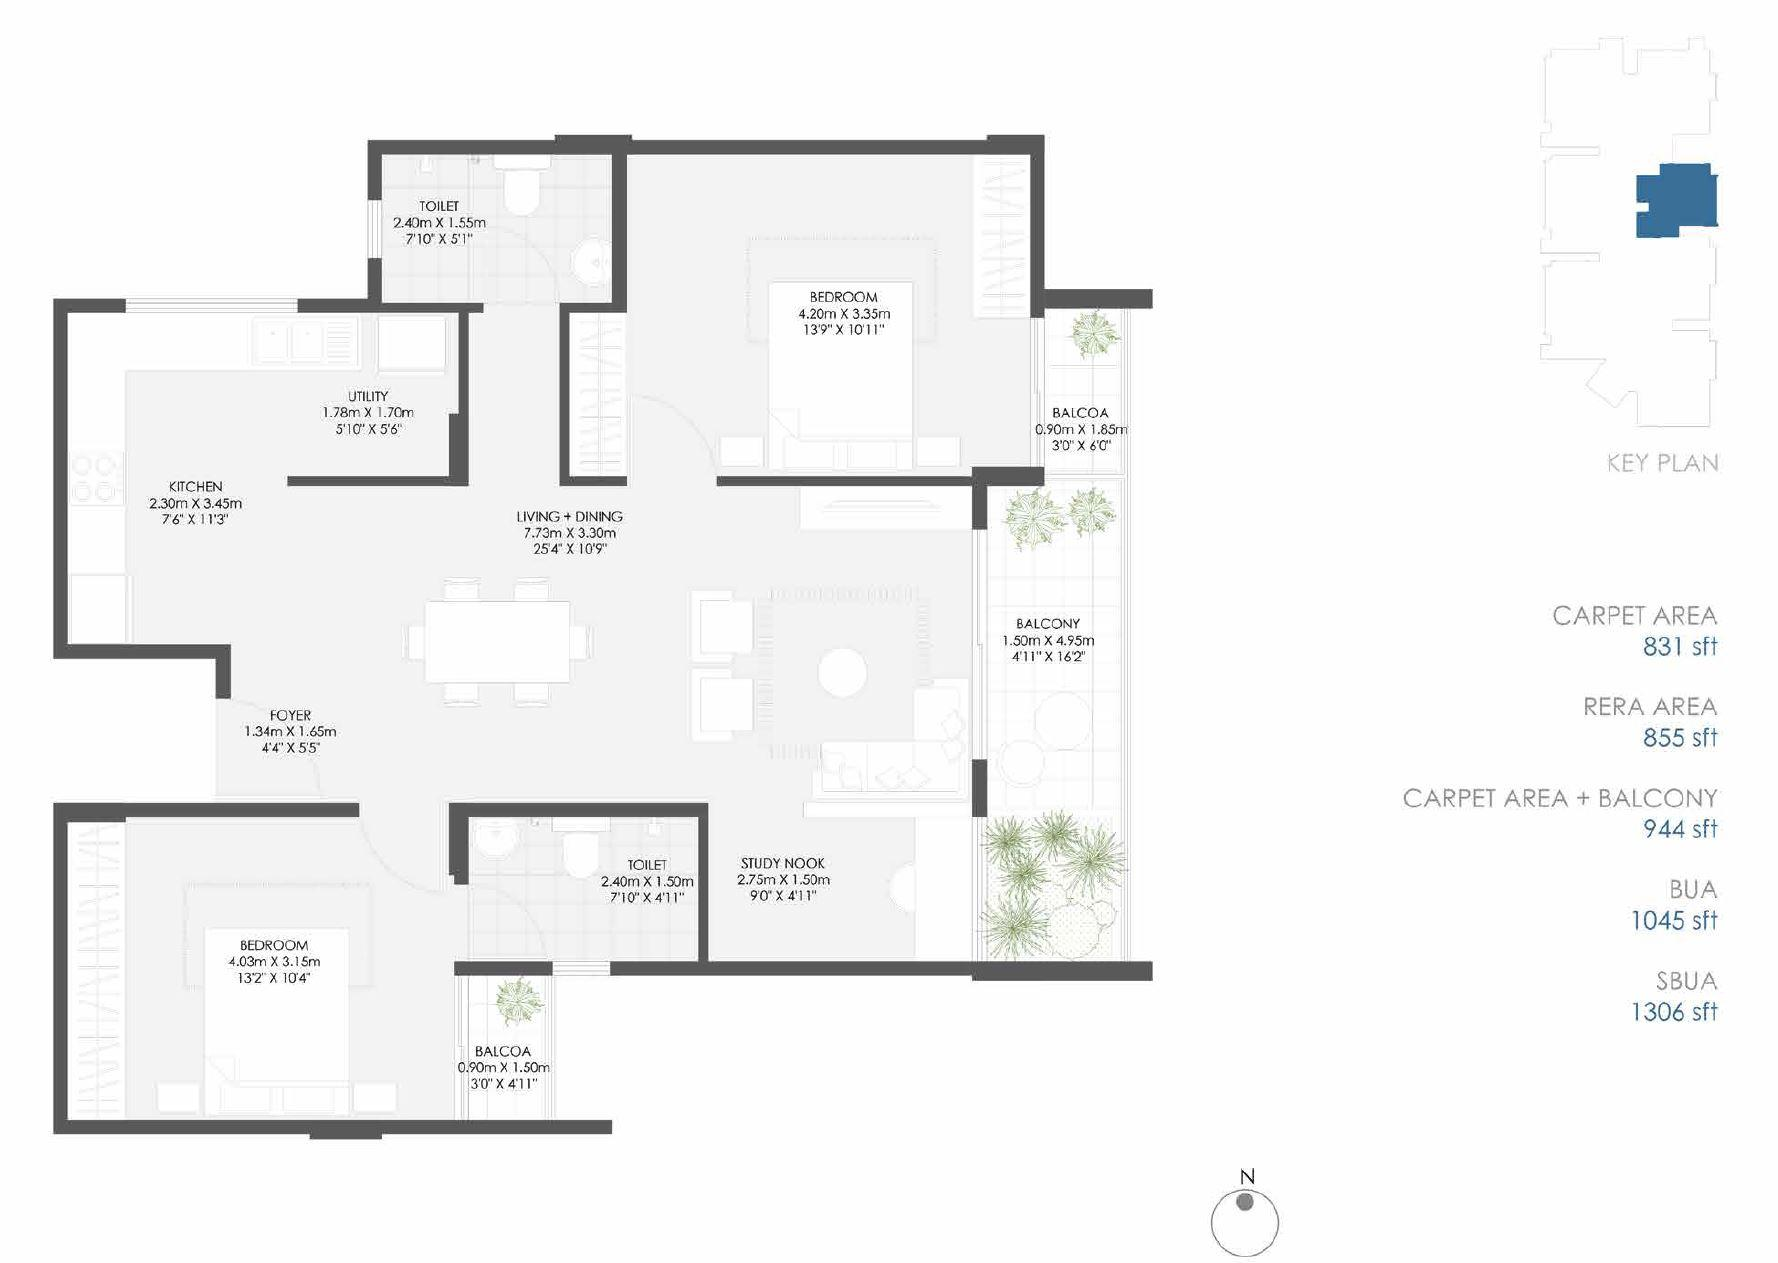Balcony: (994, 483, 1111, 958)
Bedroom: (625, 154, 1033, 476), (60, 808, 454, 1122)
Dining Room: (355, 487, 648, 811)
Dining table: (387, 567, 608, 709)
Foyer: (215, 675, 348, 802)
Kitchen: (66, 312, 286, 647)
Living Room: (651, 483, 974, 802)
Sofa: (804, 734, 966, 804), (910, 677, 970, 798), (682, 586, 756, 668), (683, 668, 758, 744)
Wardrobe: (57, 820, 128, 1126), (968, 148, 1039, 325), (569, 312, 626, 470)
balcoa: (1036, 302, 1122, 473), (456, 972, 549, 1117)
door: (629, 398, 724, 484), (966, 518, 996, 790), (364, 811, 450, 897), (462, 890, 560, 960), (484, 224, 558, 303), (446, 955, 478, 1118)
fridge: (68, 575, 133, 649)
study: (704, 811, 972, 961)
toilet: (377, 152, 614, 299), (462, 816, 696, 962)
tv: (819, 498, 940, 526)
utility: (279, 312, 455, 481)
washing-machine: (372, 310, 452, 373)
